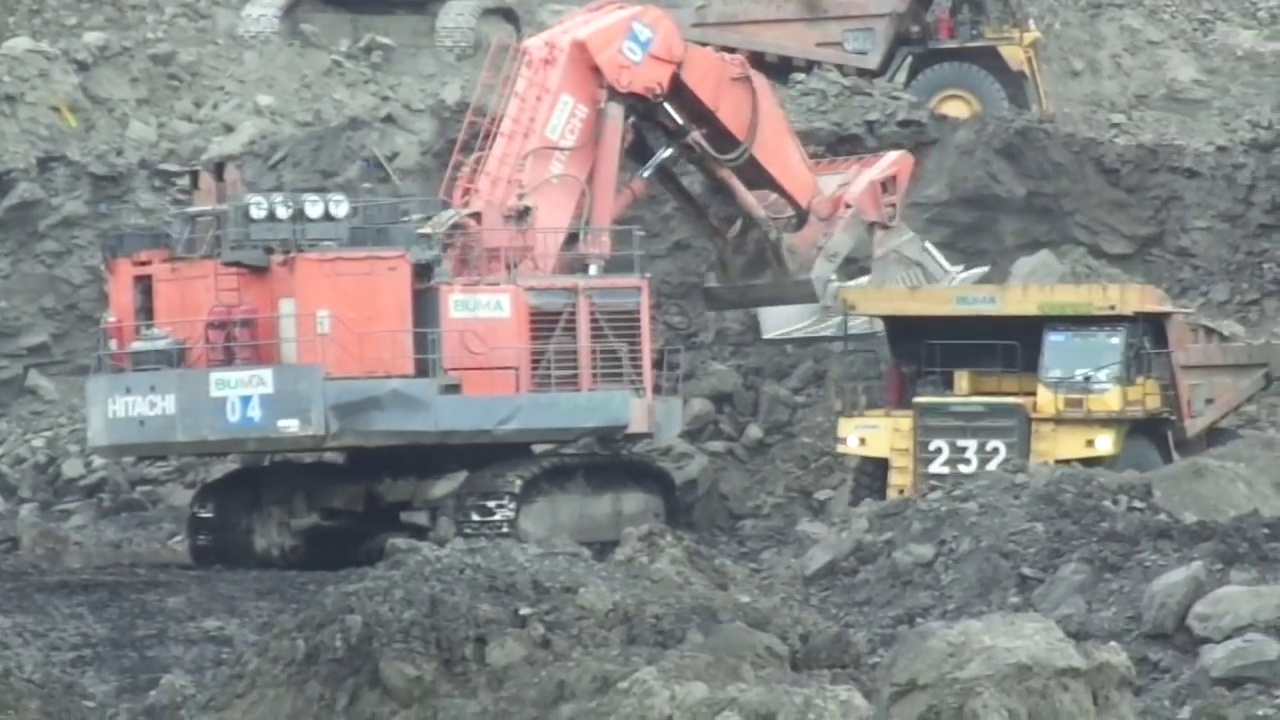dumper: (833, 284, 1277, 501), (683, 1, 1060, 135)
excavator: (86, 3, 920, 580)
